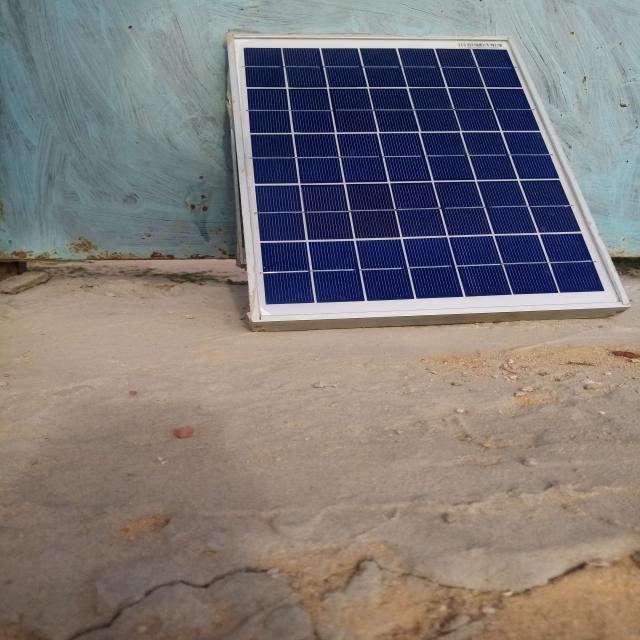Normal Solar Panel: (230, 34, 634, 322)
